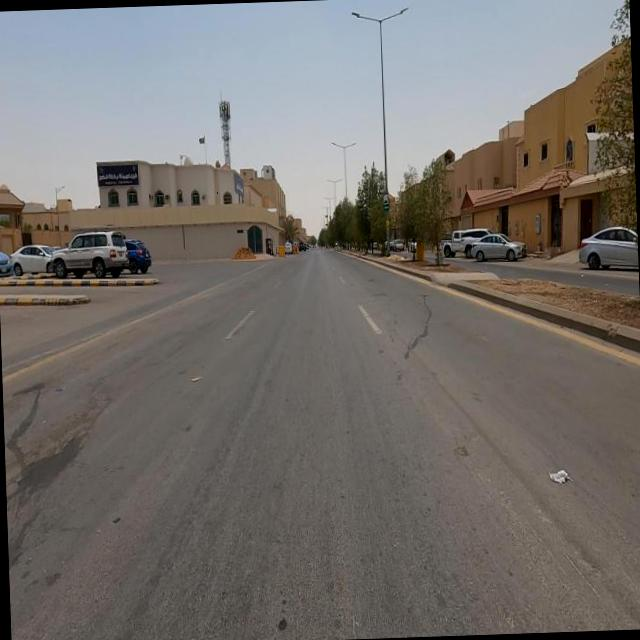debris: (519, 448, 597, 508)
